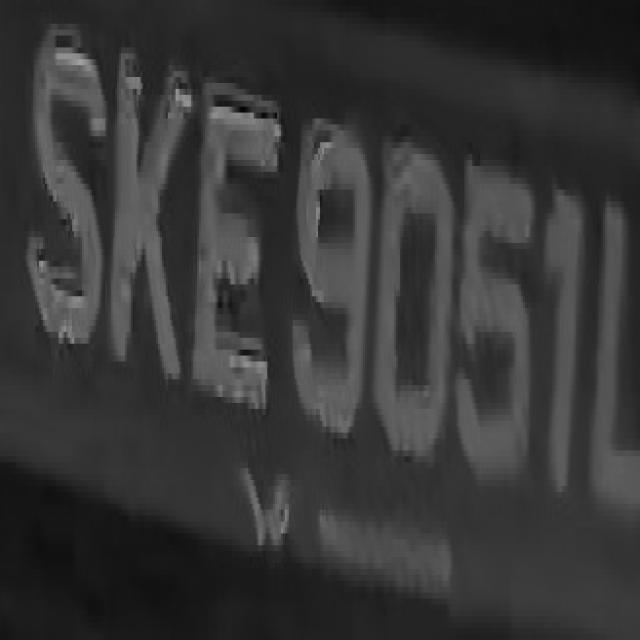0: (374, 89, 452, 462)
1: (536, 148, 580, 533)
5: (446, 130, 534, 492)
9: (285, 83, 375, 468)
E: (185, 101, 275, 450)
K: (108, 35, 186, 415)
L: (578, 160, 638, 551)
S: (26, 6, 101, 361)
